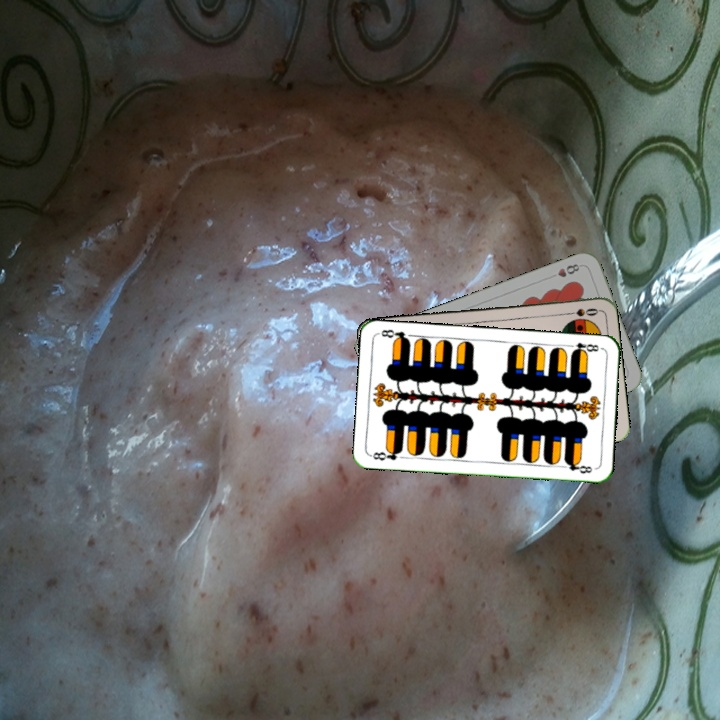E8: (564, 339, 604, 356), (368, 445, 405, 463)
H8: (545, 260, 582, 281)
SO: (560, 304, 601, 319)
